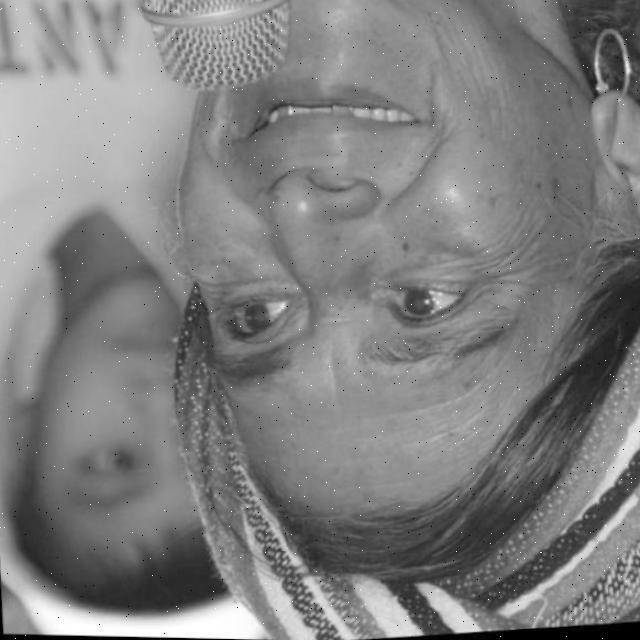puffy_eyes: (376, 268, 456, 295), (209, 278, 290, 301)
